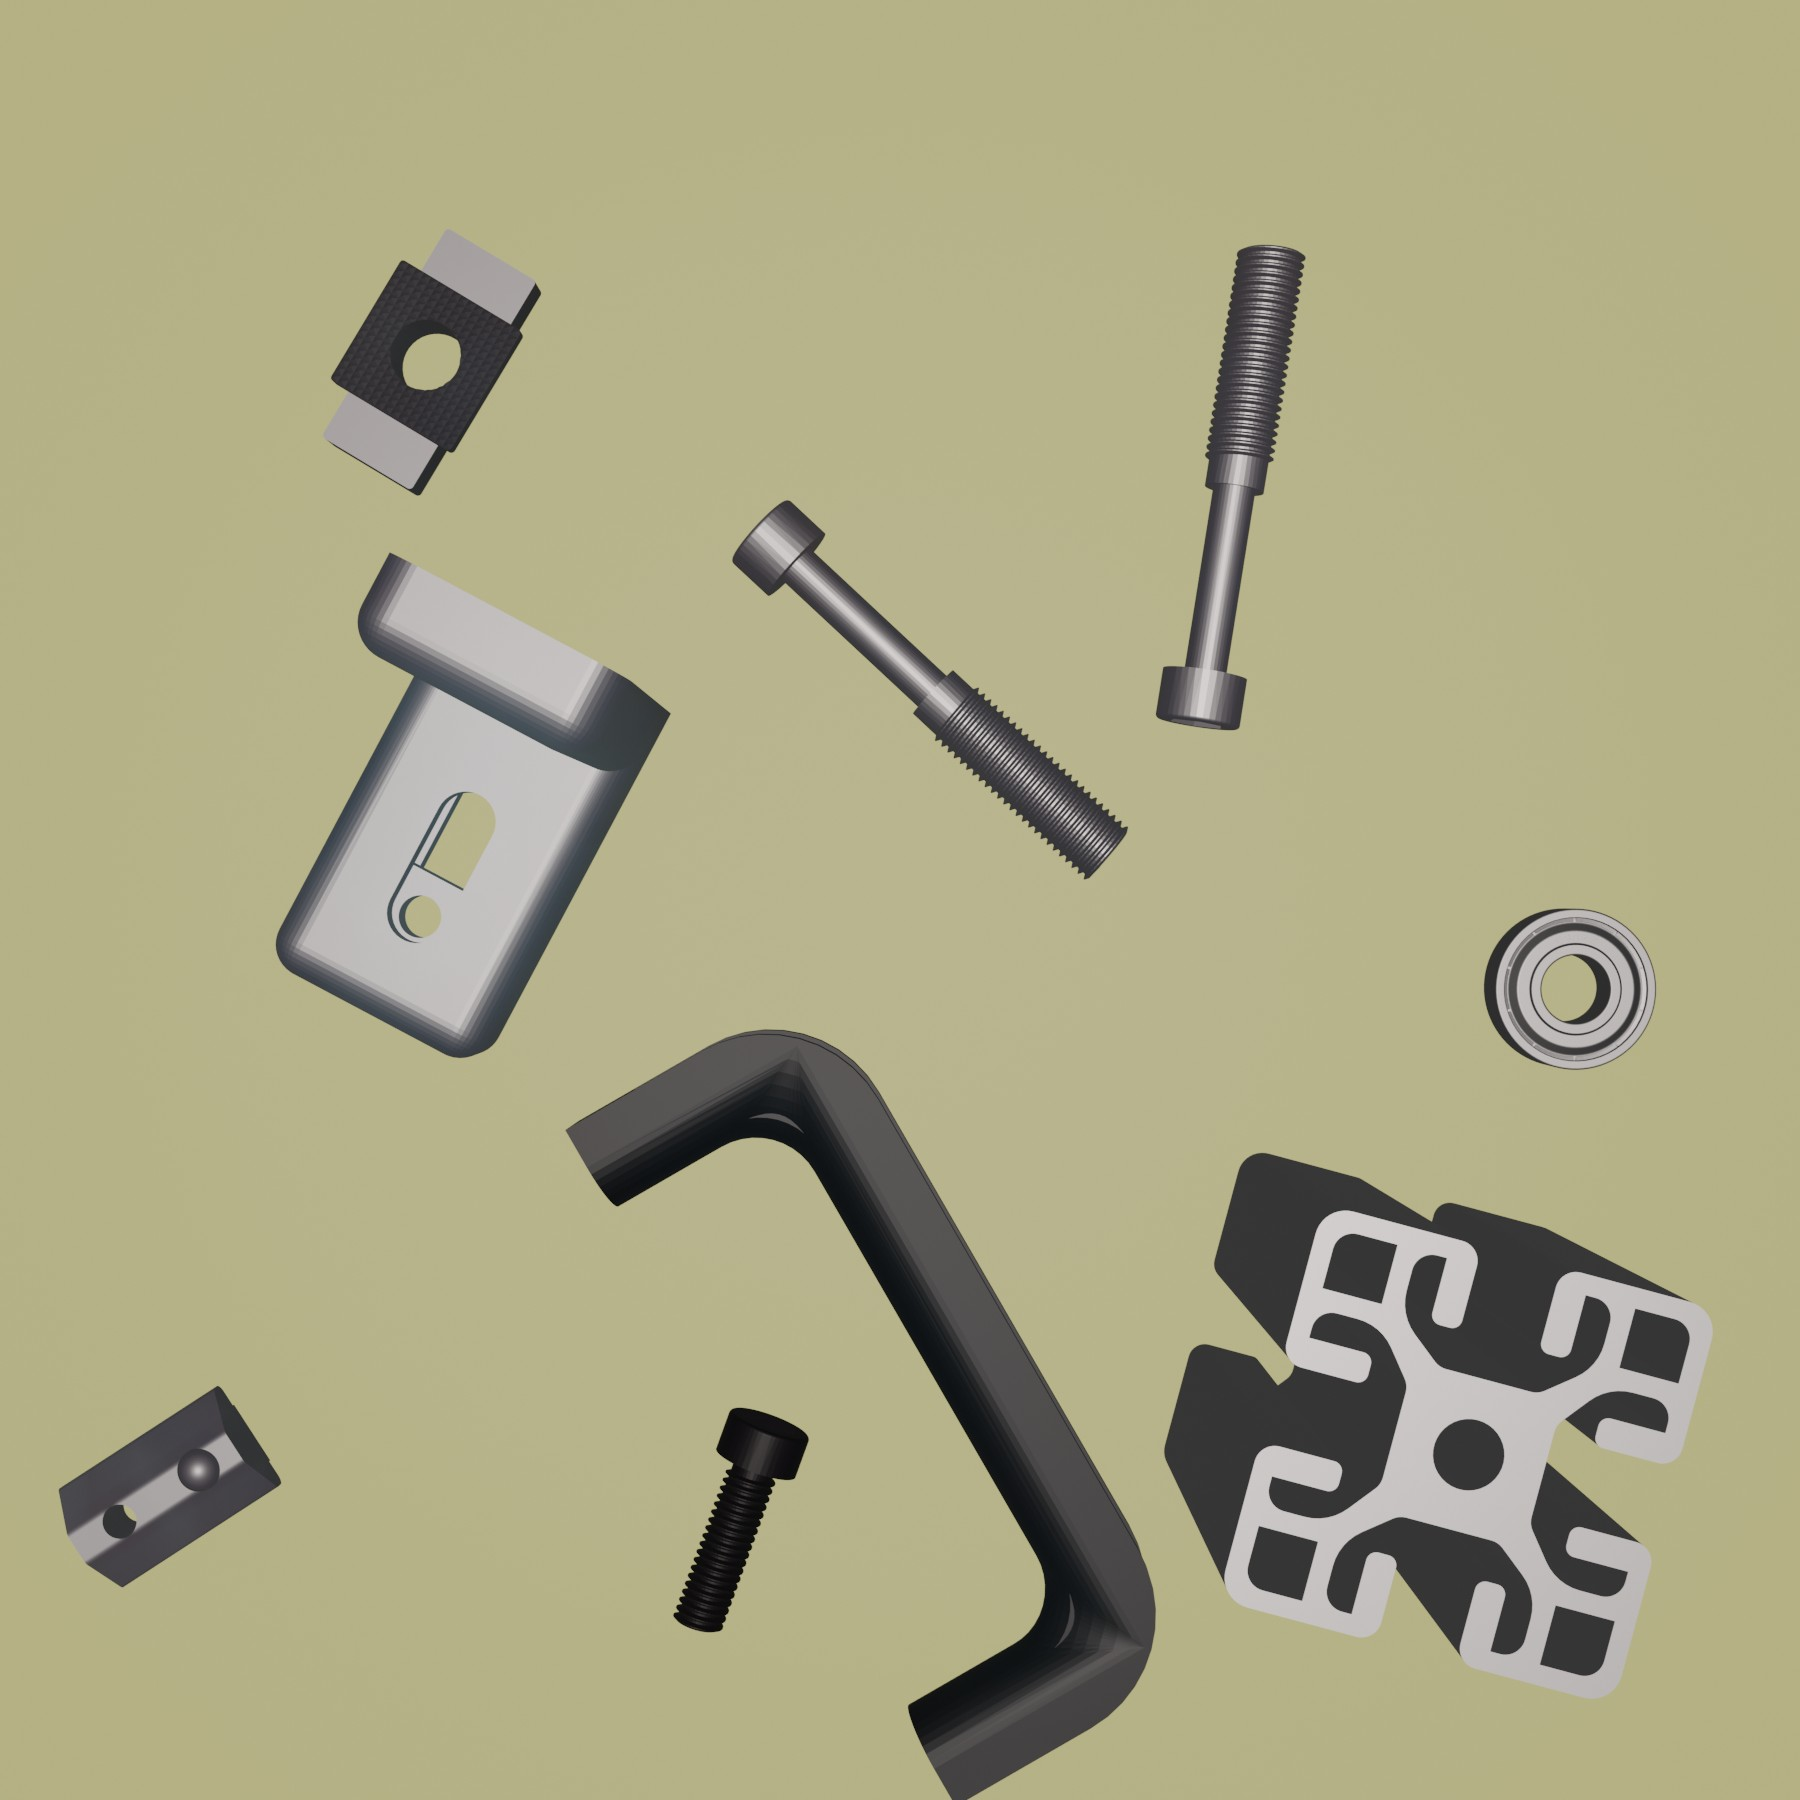Aluminium Extension: (1160, 1149, 1714, 1703)
Ball Bearing: (1480, 903, 1658, 1071)
Multiwinkel: (275, 549, 671, 1058)
Pull Handle: (564, 1027, 1159, 1800)
Shoulder Socket Head Cap Screw: (730, 499, 1131, 882), (1152, 242, 1309, 734)
Socket Head Cap Screw: (673, 1404, 811, 1635)
T Nut Square: (320, 224, 544, 498)
T Spring Nut: (58, 1378, 282, 1587)
